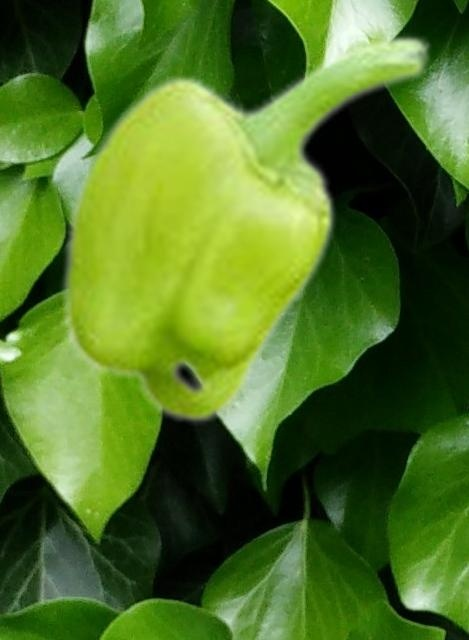bell_pepper: (59, 32, 432, 424)
